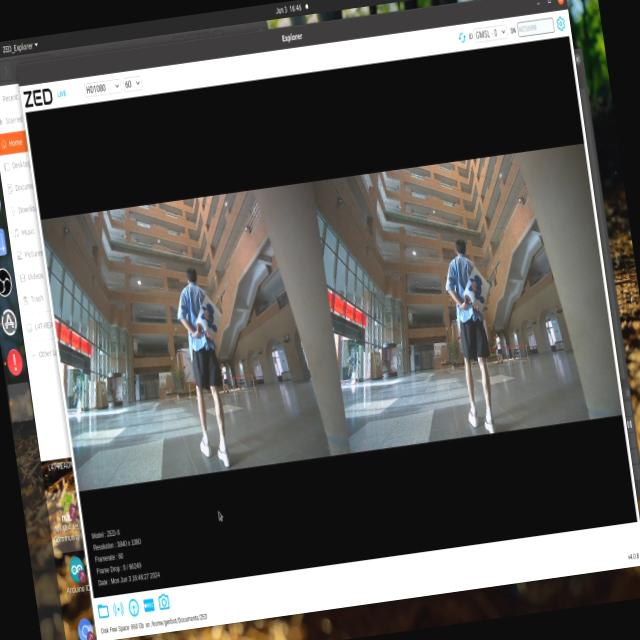blue: (192, 292, 220, 342), (465, 266, 492, 308)
